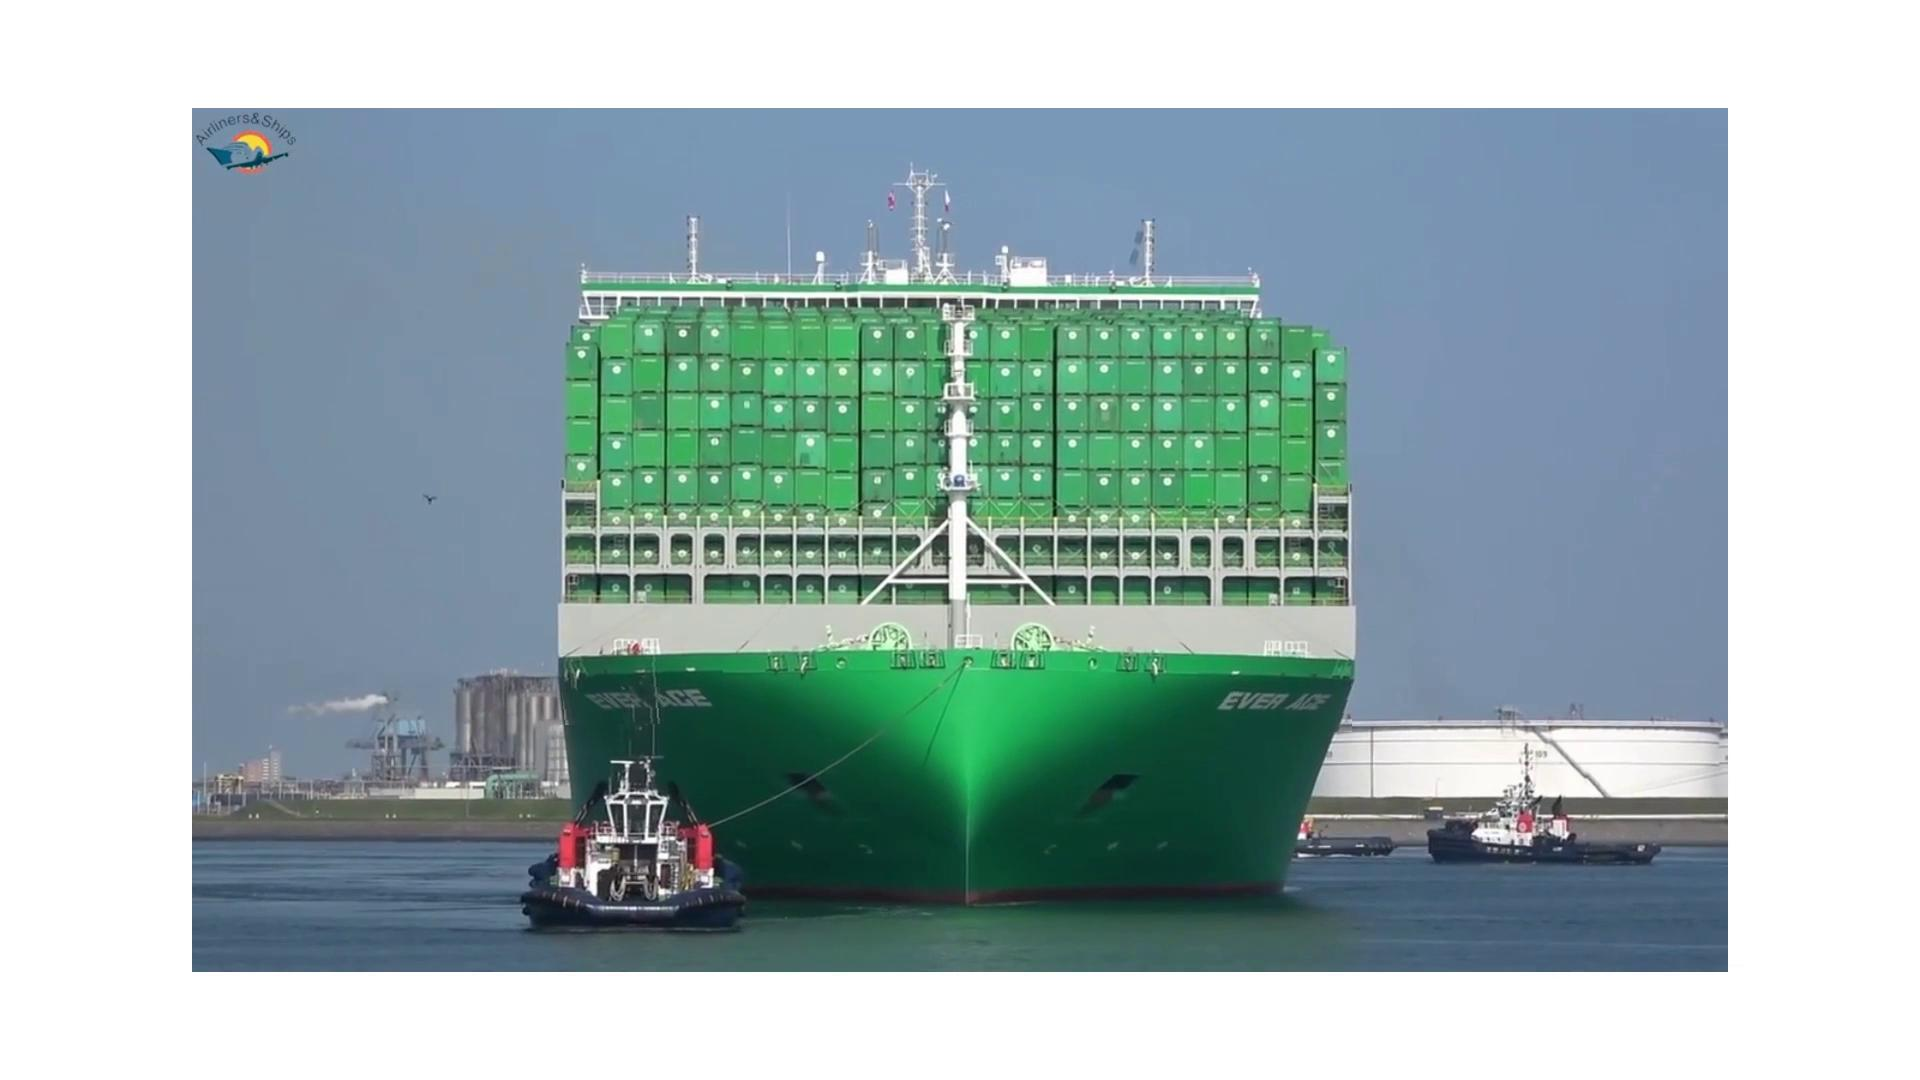OCR: (559, 662, 724, 725), (1199, 680, 1352, 735)
